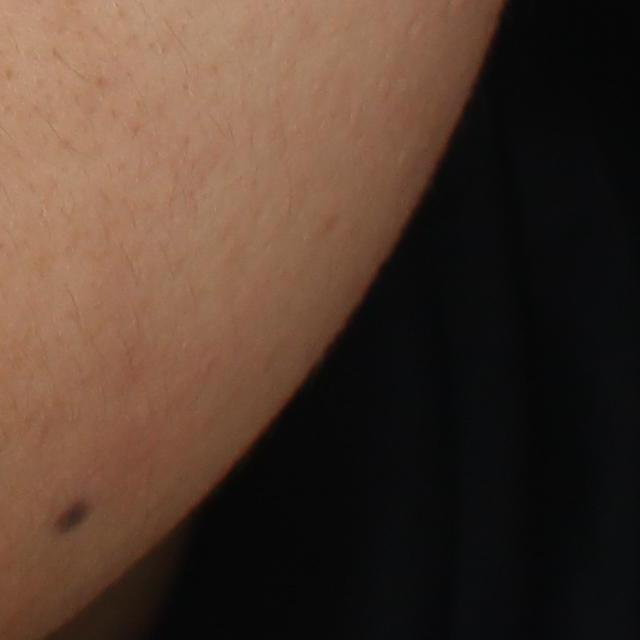nevus: (51, 497, 93, 534)
